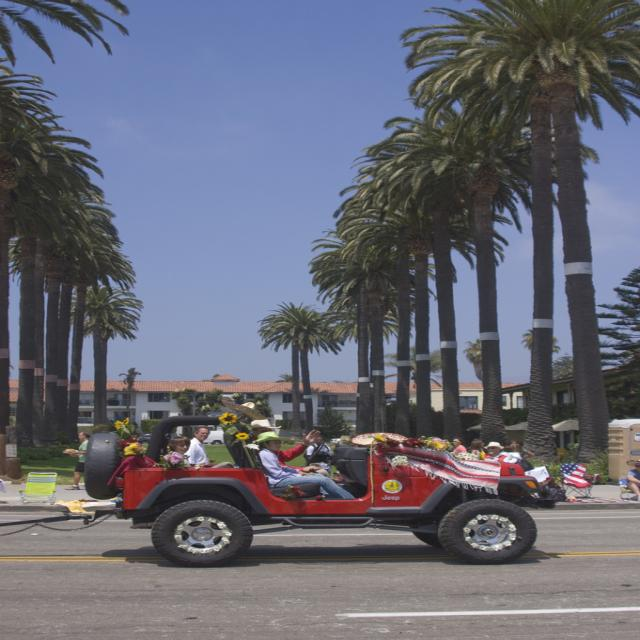car: (84, 414, 573, 578)
